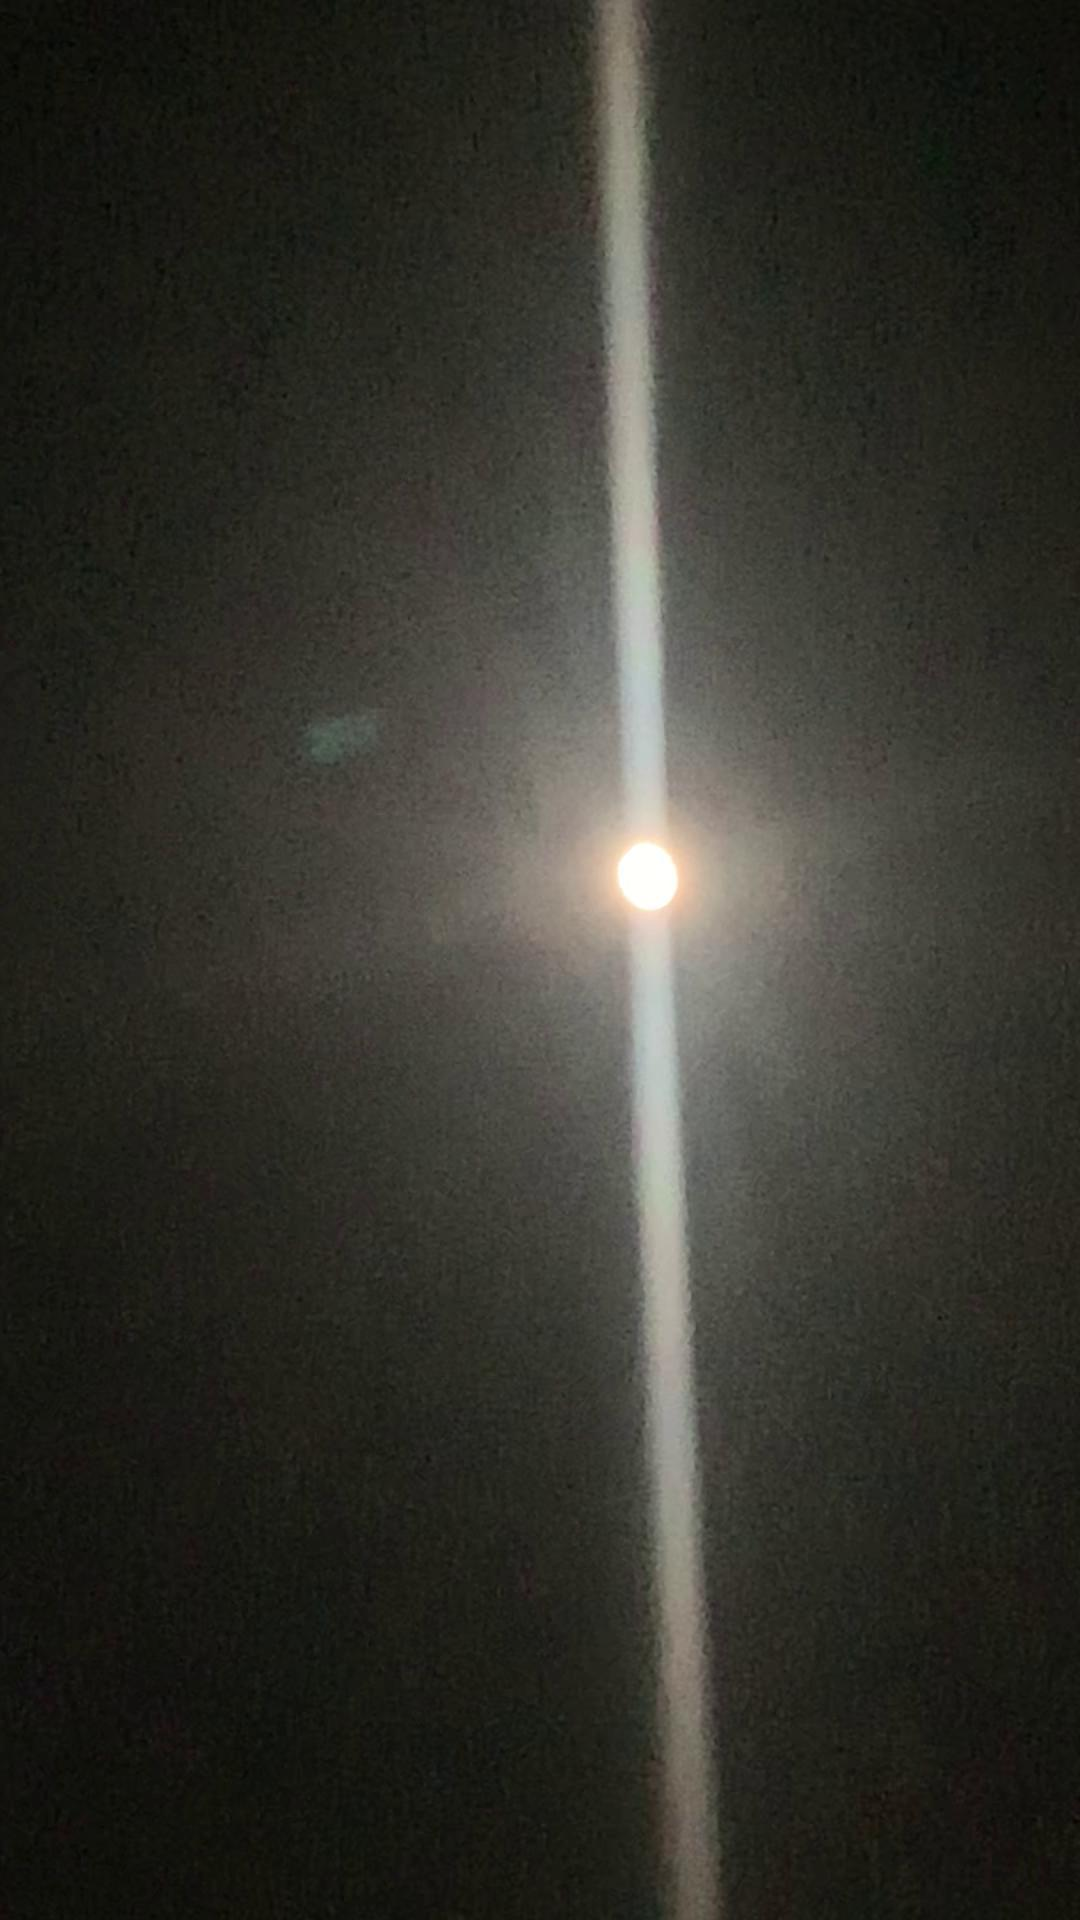moon: (597, 824, 702, 930)
